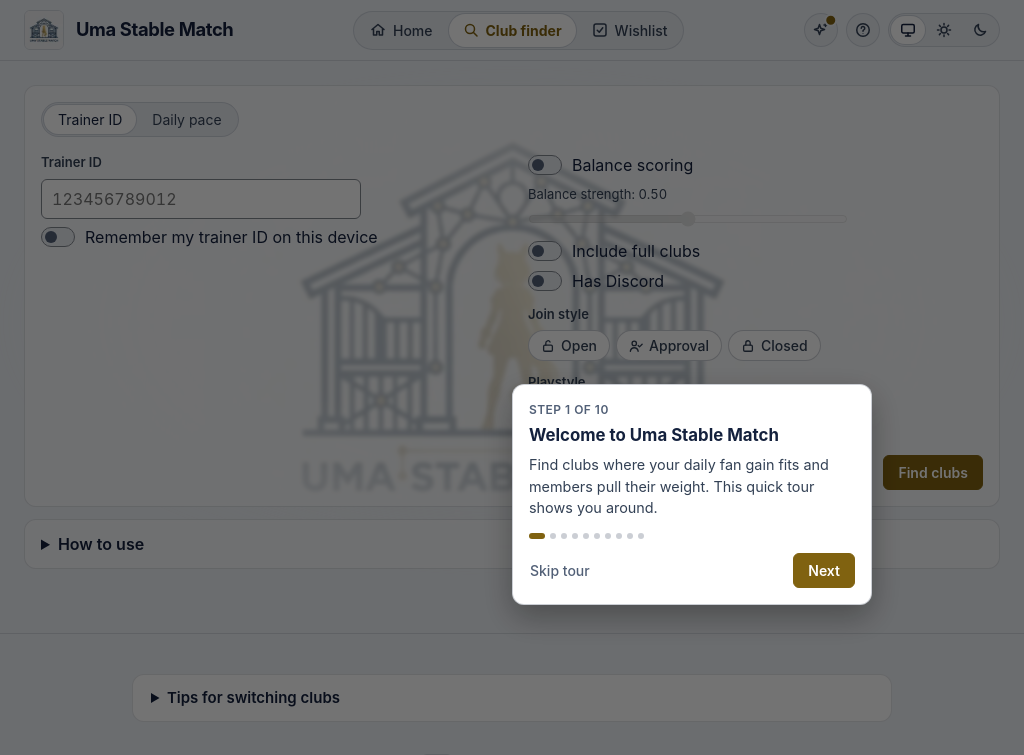
Scenario: App states › starts the tour on a first visit, and not again once skipped
Click the button "Skip tour" at (560, 570), box 529,553 -> 591,588
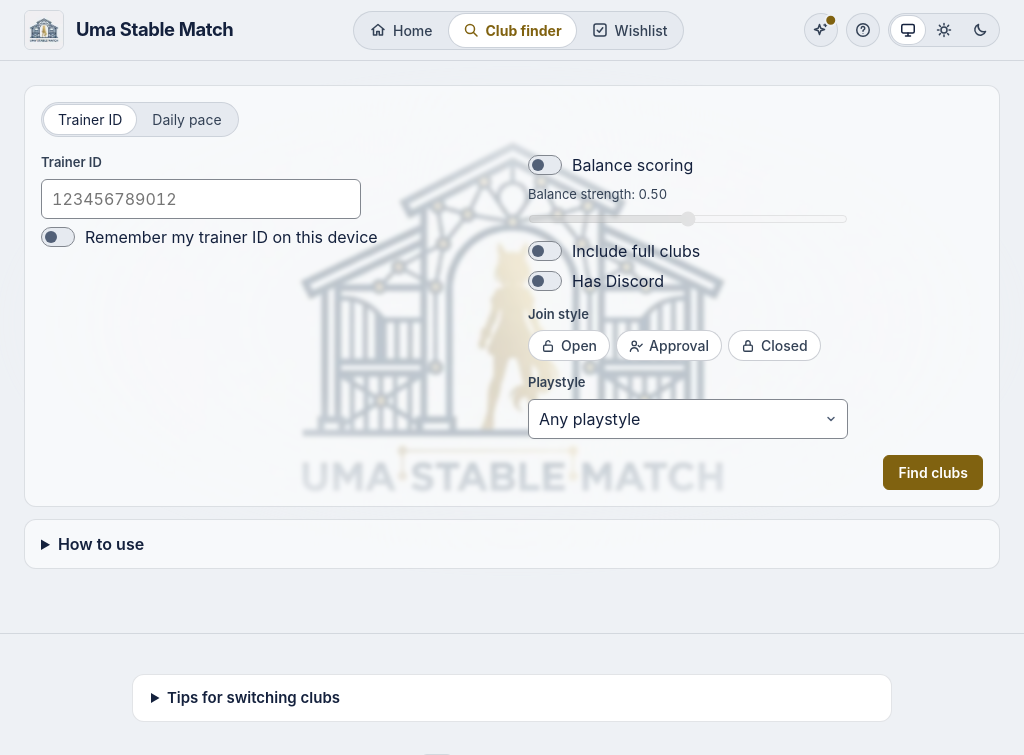
Now the dialog is gone
